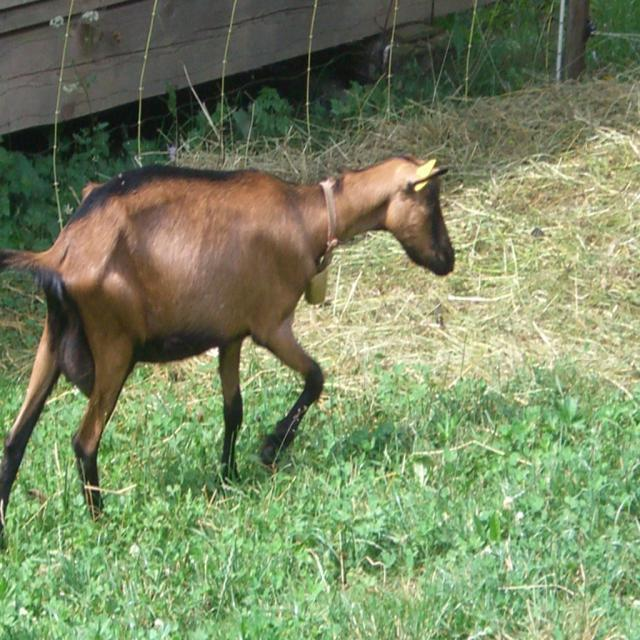Goat: (2, 150, 457, 537)
